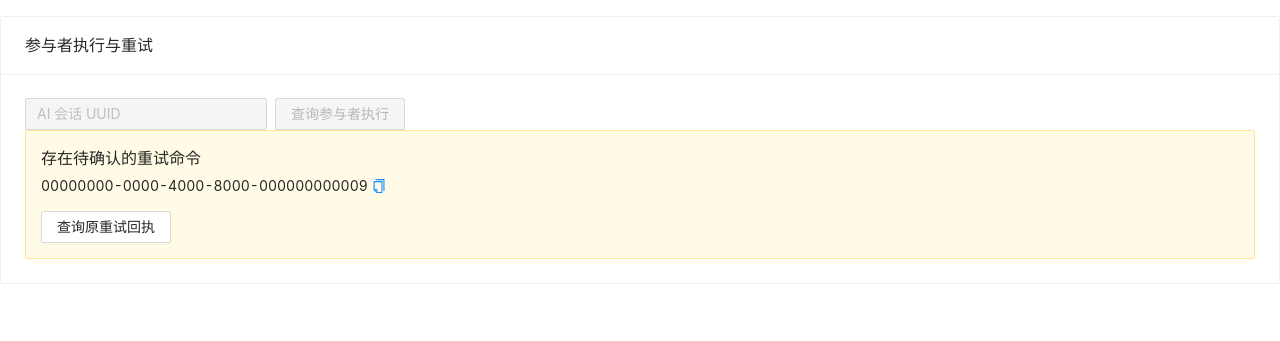
Test: retains pending intent when durable receipt has wrong_resource
Check: the text "查询原重试回执" is shown, box [57,216,155,238]
Click the button "查询原重试回执".
click(106, 227)  # box [41,211,171,243]
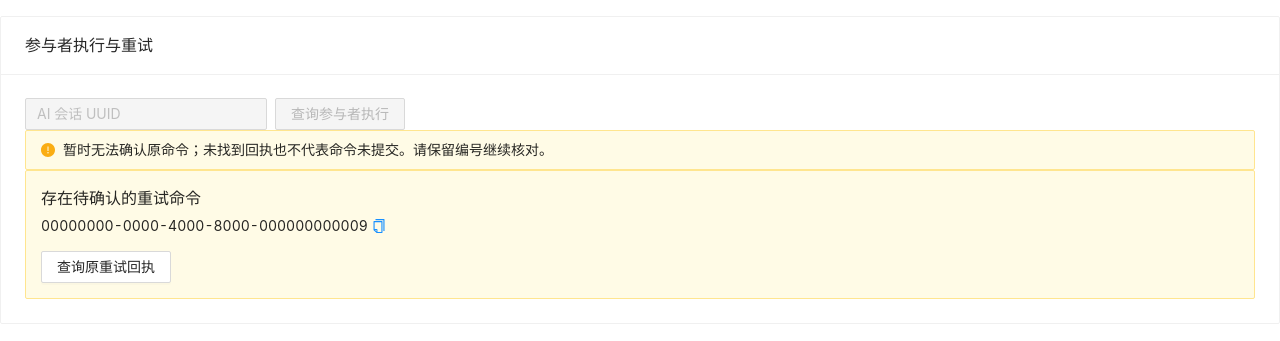
Check: the text "暂时无法确认原命令；未找到回执也不代表命令未提交。请保留编号继续核对。" is shown, box [63,141,553,158]
